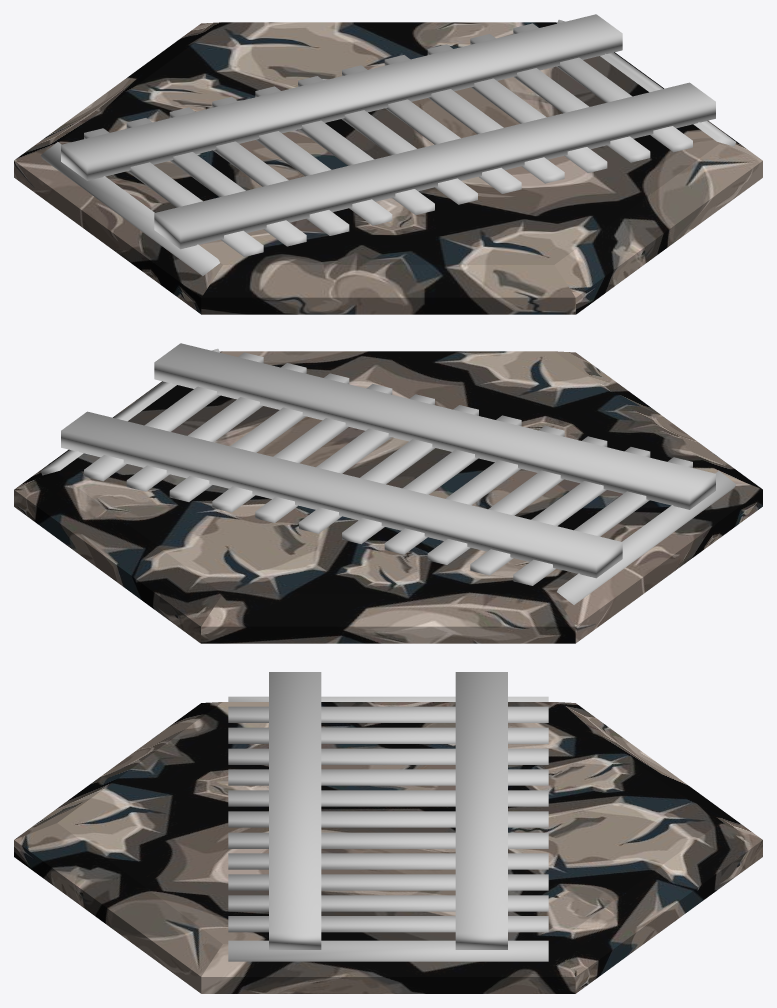
Rendered from TileRetoPedra.fbx.
3 renders of one model, top to bottom at view 1: azimuth 30°, elevation 25°; view 2: azimuth 150°, elevation 25°; view 3: azimuth 270°, elevation 25°, orthographic.
Parts seen in each view (by area): view 1: TileHexReto; view 2: TileHexReto; view 3: TileHexReto.
Part boxes in pixels (<box>): TileHexReto: <box>14,14,762,314</box>; TileHexReto: <box>14,343,762,643</box>; TileHexReto: <box>14,672,762,993</box>.
Bounding box in the file's own units: 173 × 16 × 200.
